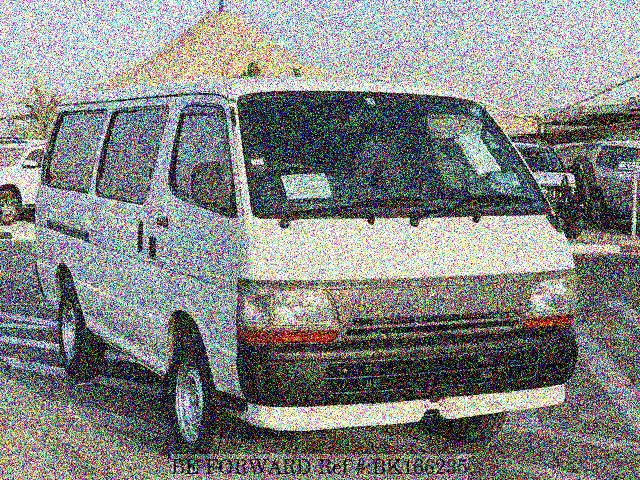van: (42, 81, 584, 441)
